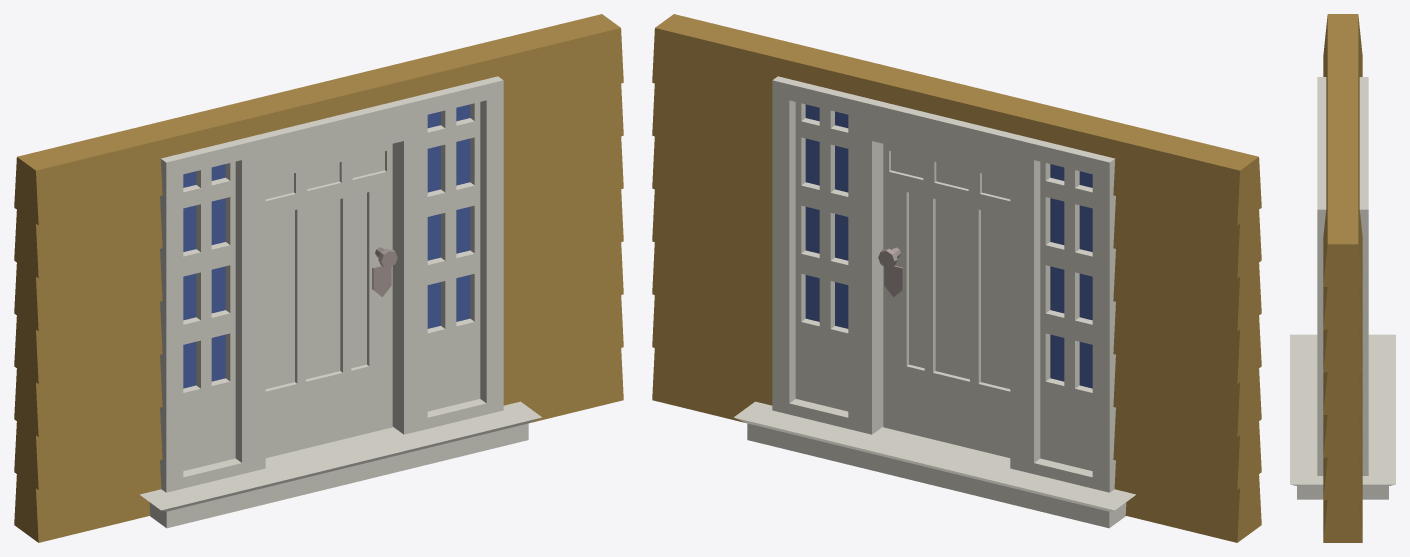
The model's file is Door01_house4.obj.
3 views of the same model, side by side, from view 1: azimuth 30°, elevation 25°; view 2: azimuth 150°, elevation 25°; view 3: azimuth 270°, elevation 25° (orthographic). The views are drawn at different scales.
Parts seen in each view (by area): view 1: Door01_house04_Cube.002; view 2: Door01_house04_Cube.002; view 3: Door01_house04_Cube.002.
Part boxes in pixels (box(x1,y1,x2,y2)): Door01_house04_Cube.002: box(14, 14, 623, 542); Door01_house04_Cube.002: box(652, 14, 1261, 542); Door01_house04_Cube.002: box(1290, 14, 1395, 542).
Bounding box in the file's own units: 5.47 × 3.31 × 1.06.
